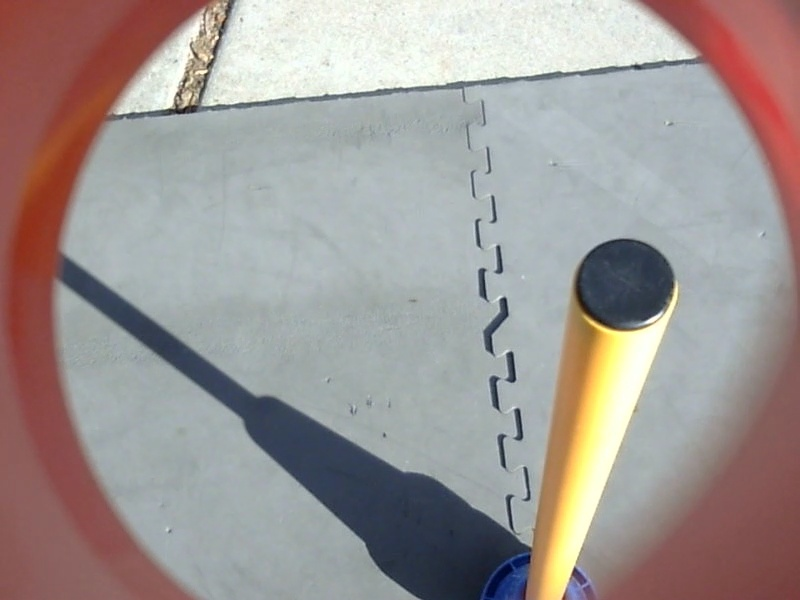tip: (567, 232, 687, 342)
